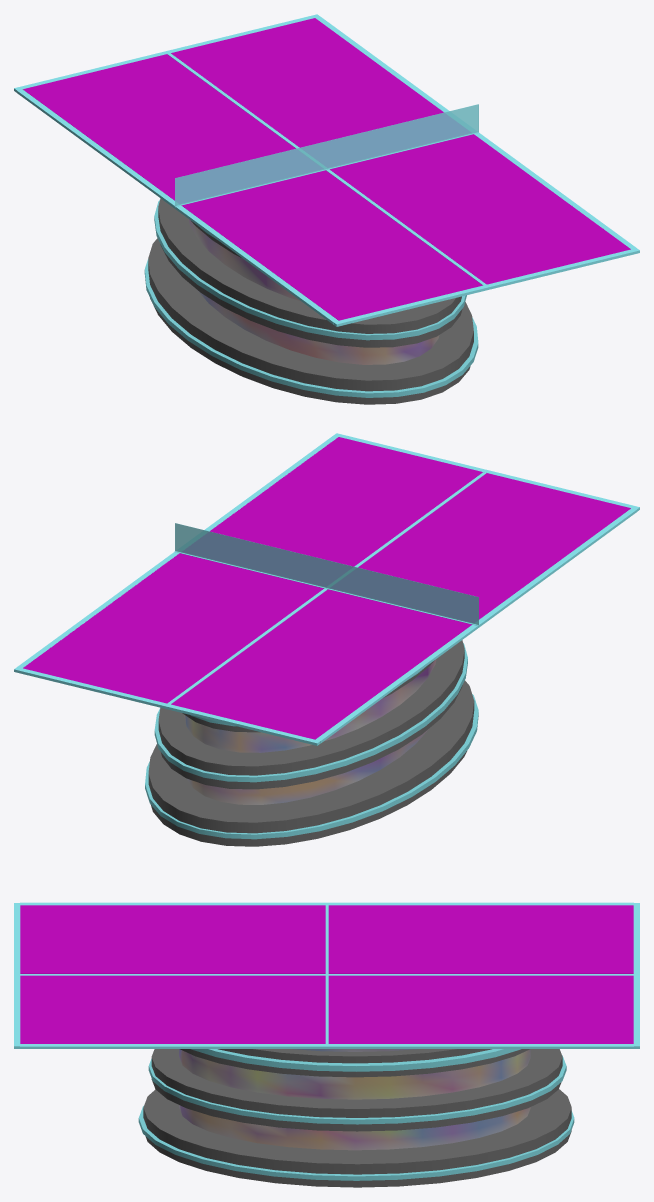
Rendered from fasion_table.glb.
3 views of the same model, one above another, from view 1: azimuth 30°, elevation 25°; view 2: azimuth 150°, elevation 25°; view 3: azimuth 270°, elevation 25° (orthographic). The views are drawn at different scales.
Visible parts, largest first — view 1: Object_33, Object_31, Object_19, Object_21, Object_5.003, Object_3, Object_25, Object_7.001, Object_23, Object_11.001, Object_17.001, Object_15.001 (+1 smaller); view 2: Object_33, Object_31, Object_19, Object_21, Object_5.003, Object_3, Object_25, Object_23, Object_7.001, Object_13.001, Object_17.001, Object_15.001 (+1 smaller); view 3: Object_33, Object_31, Object_19, Object_21, Object_3, Object_29, Object_25, Object_23, Object_17.001, Object_27, Object_7.001, Object_15.001 (+3 smaller).
Boxes of the visible parts, bbox=[...] form: Object_33: bbox=[23, 54, 482, 320]; Object_31: bbox=[171, 18, 630, 284]; Object_19: bbox=[148, 238, 473, 404]; Object_21: bbox=[158, 198, 462, 347]; Object_5.003: bbox=[175, 104, 478, 207]; Object_3: bbox=[188, 219, 439, 364]; Object_25: bbox=[144, 259, 478, 397]; Object_7.001: bbox=[17, 89, 338, 324]; Object_23: bbox=[154, 200, 466, 340]; Object_11.001: bbox=[333, 248, 639, 326]; Object_17.001: bbox=[315, 16, 636, 249]; Object_15.001: bbox=[167, 53, 486, 285]; Object_33: bbox=[171, 473, 630, 739]; Object_31: bbox=[23, 437, 482, 703]; Object_19: bbox=[148, 680, 474, 846]; Object_21: bbox=[158, 640, 464, 789]; Object_5.003: bbox=[175, 523, 478, 625]; Object_3: bbox=[184, 659, 436, 804]; Object_25: bbox=[145, 694, 478, 839]; Object_23: bbox=[154, 643, 467, 782]; Object_7.001: bbox=[315, 508, 636, 743]; Object_13.001: bbox=[14, 667, 320, 745]; Object_17.001: bbox=[17, 435, 338, 668]; Object_15.001: bbox=[167, 472, 486, 704]; Object_33: bbox=[20, 905, 633, 973]; Object_31: bbox=[20, 975, 633, 1043]; Object_19: bbox=[143, 1089, 571, 1187]; Object_21: bbox=[151, 1049, 562, 1131]; Object_3: bbox=[179, 1049, 530, 1150]; Object_29: bbox=[180, 1049, 529, 1077]; Object_25: bbox=[138, 1106, 574, 1180]; Object_23: bbox=[148, 1055, 566, 1124]; Object_17.001: bbox=[20, 1044, 633, 1048]; Object_27: bbox=[191, 1049, 520, 1071]; Object_7.001: bbox=[20, 902, 633, 905]; Object_15.001: bbox=[20, 974, 633, 975].
Bounding box in the file's own units: 3.04 × 1.81 × 5.59.
